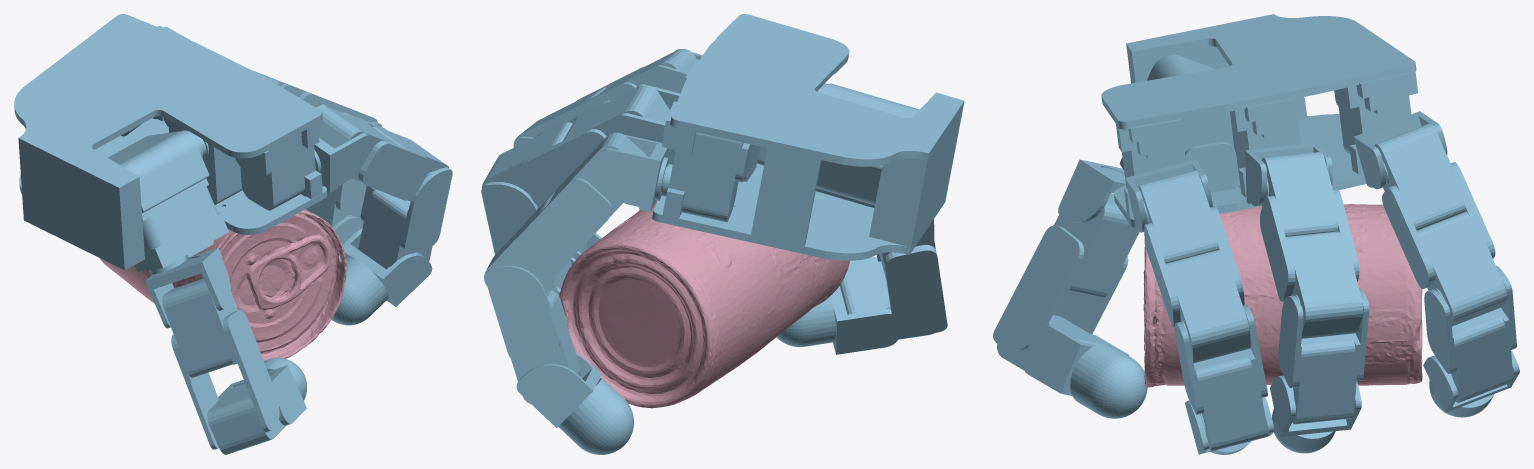
3 renders of one model, left to right at view 1: azimuth 30°, elevation 25°; view 2: azimuth 150°, elevation 25°; view 3: azimuth 270°, elevation 25°, orthographic. The views are drawn at different scales.
Visible parts, largest first — view 1: world; view 2: world; view 3: world.
Part boxes in pixels (bbox=[...]): world: bbox=[14, 14, 452, 454]; world: bbox=[481, 14, 964, 454]; world: bbox=[993, 14, 1519, 454].
Size of the model in its own units: 0.1849 by 0.1393 by 0.1924.
